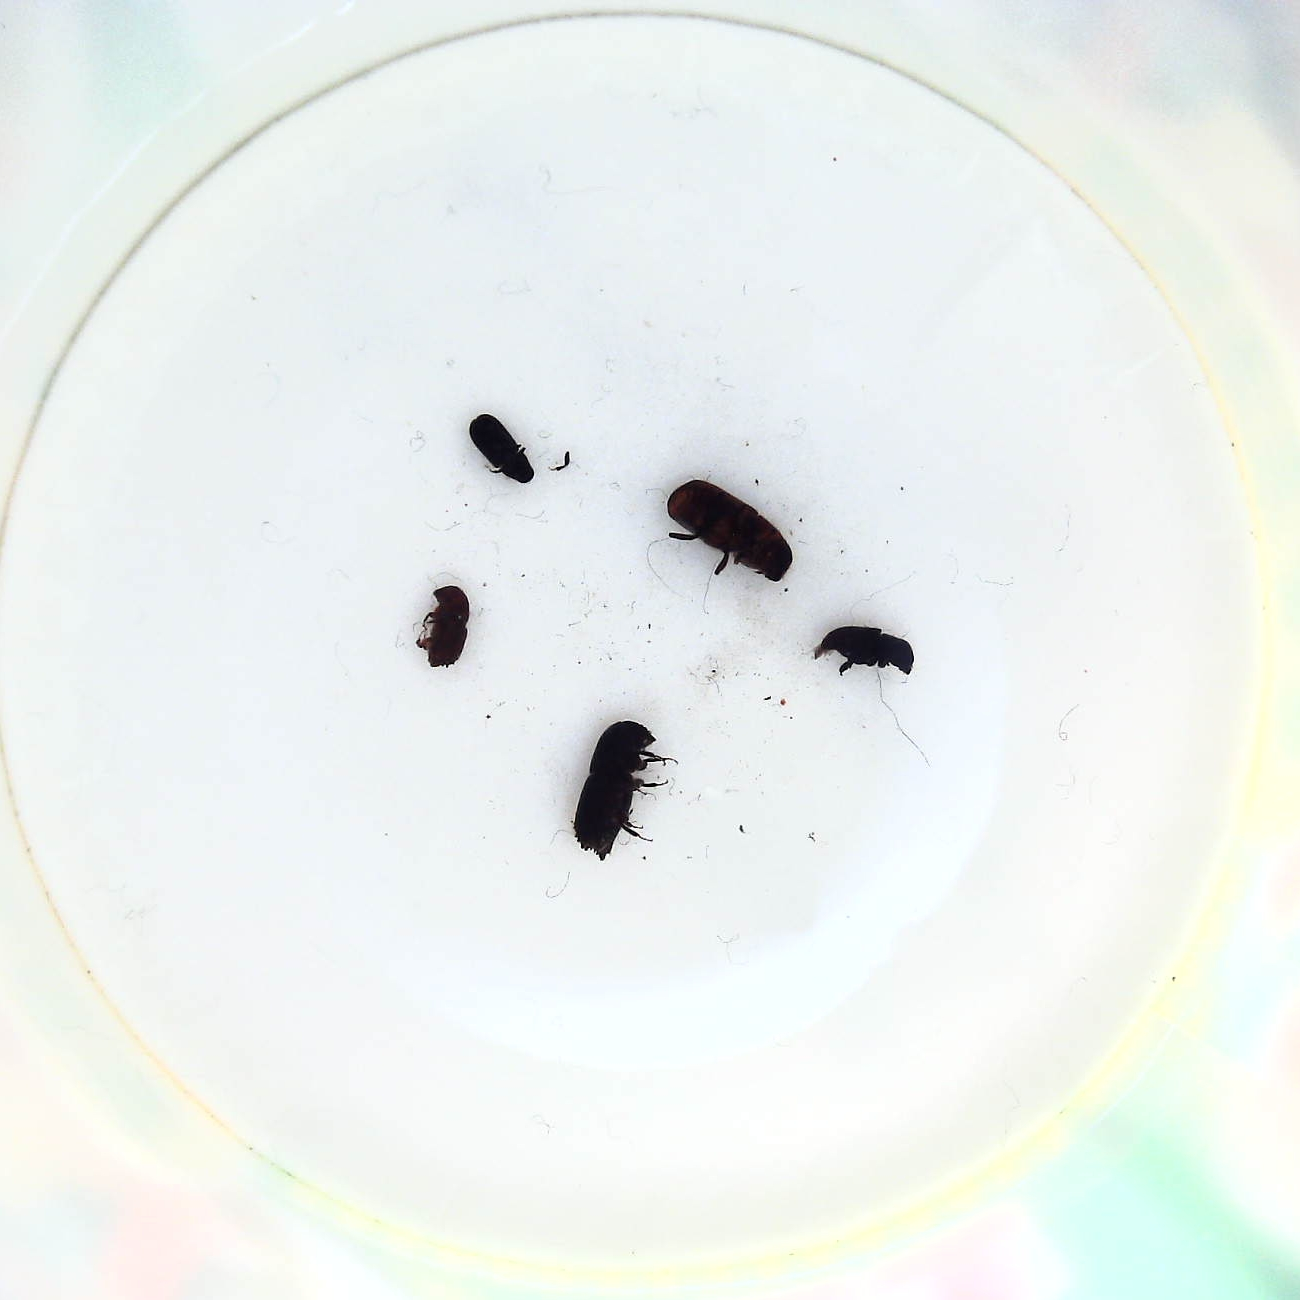Boerner: (570, 717, 685, 868)
Leconte: (656, 480, 796, 587)
armandi: (819, 621, 919, 680)
coleoptera: (463, 412, 536, 487)
linnaeus: (419, 580, 473, 673)
